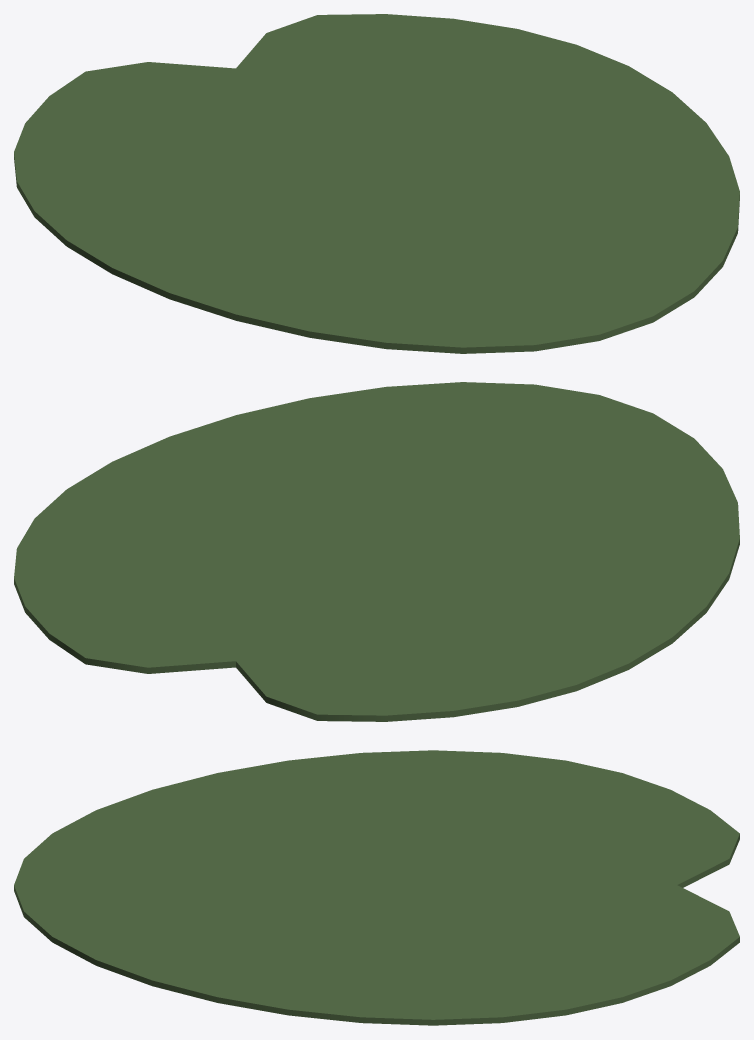
The model's file is Lilypad_Heart.fbx.
3 views of the same model, one above another, from view 1: azimuth 30°, elevation 25°; view 2: azimuth 150°, elevation 25°; view 3: azimuth 270°, elevation 25° (orthographic). The views are drawn at different scales.
Visible parts, largest first — view 1: Lilypad.Shaped; view 2: Lilypad.Shaped; view 3: Lilypad.Shaped.
Part boxes in pixels (left/top/right/bottom): Lilypad.Shaped: left=14, top=14, right=739, bottom=353; Lilypad.Shaped: left=14, top=382, right=739, bottom=721; Lilypad.Shaped: left=14, top=750, right=739, bottom=1025.
Size of the model in its own units: 119 by 1.19 by 135.
